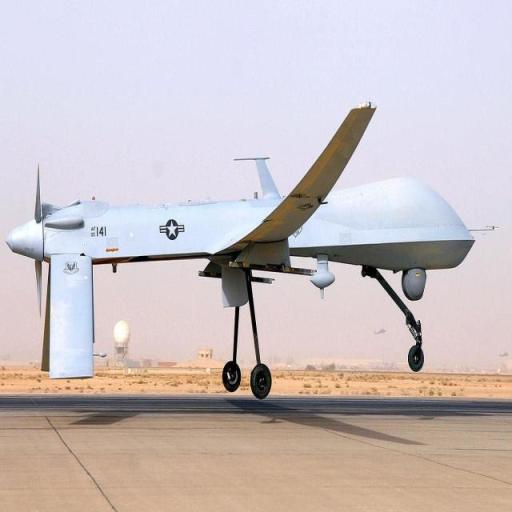uav: (5, 100, 501, 404)
